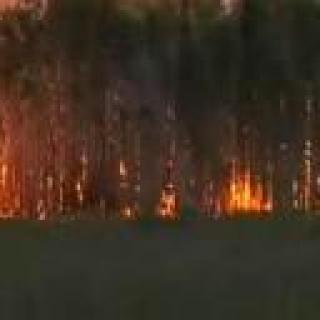fire: (39, 162, 95, 221), (208, 170, 274, 217), (156, 190, 182, 218), (302, 141, 310, 210)
